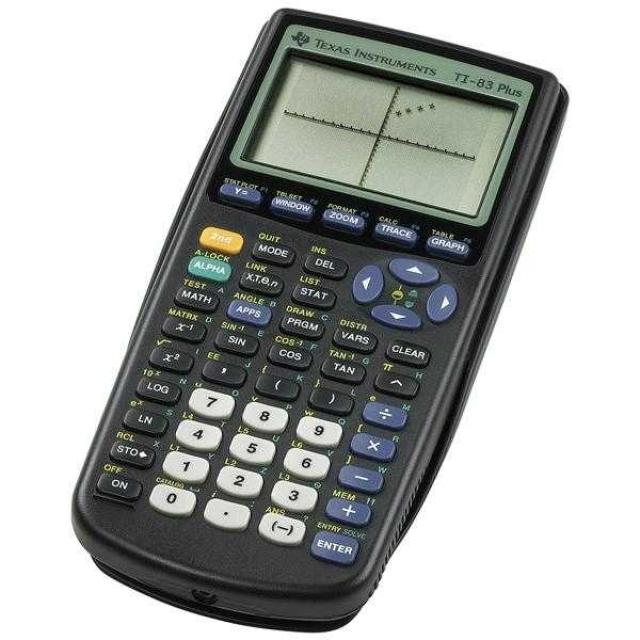Calculator: (69, 6, 570, 632)
